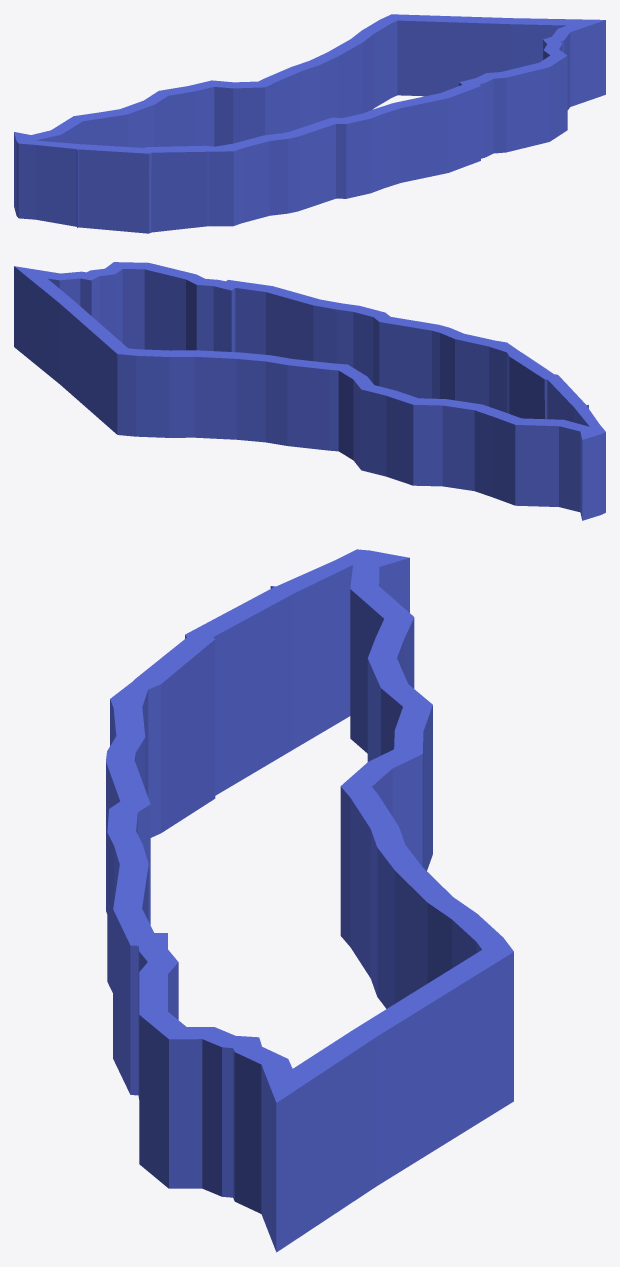
Rendered from ColliderWall_R.fbx.
3 renders of one model, top to bottom at view 1: azimuth 30°, elevation 25°; view 2: azimuth 150°, elevation 25°; view 3: azimuth 270°, elevation 25°, orthographic. The views are drawn at different scales.
Parts seen in each view (by area): view 1: ColliderWalls_R; view 2: ColliderWalls_R; view 3: ColliderWalls_R.
Boxes of the visible parts, x1,y1,x2,y2 form: ColliderWalls_R: [14, 14, 605, 233]; ColliderWalls_R: [14, 262, 605, 520]; ColliderWalls_R: [106, 549, 513, 1252].
Bounding box in the file's own units: 4105 × 553 × 1279.
